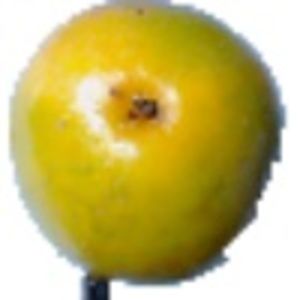maracujá: (7, 1, 289, 300)
